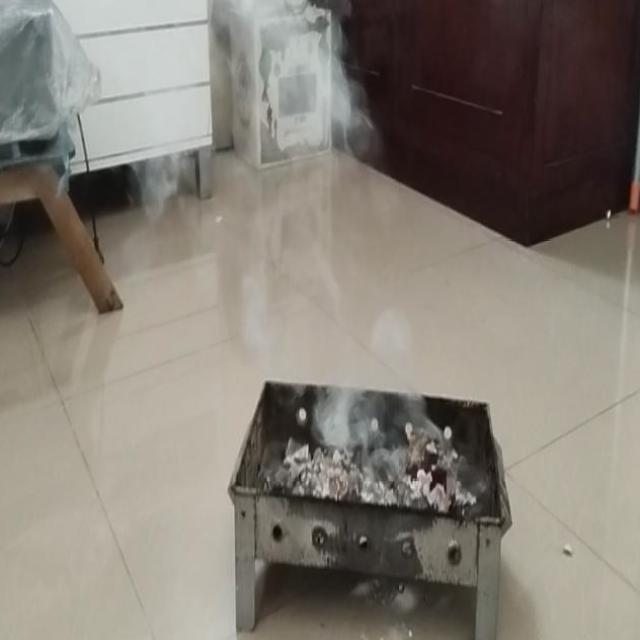fire: (216, 0, 376, 174), (318, 339, 366, 446)
